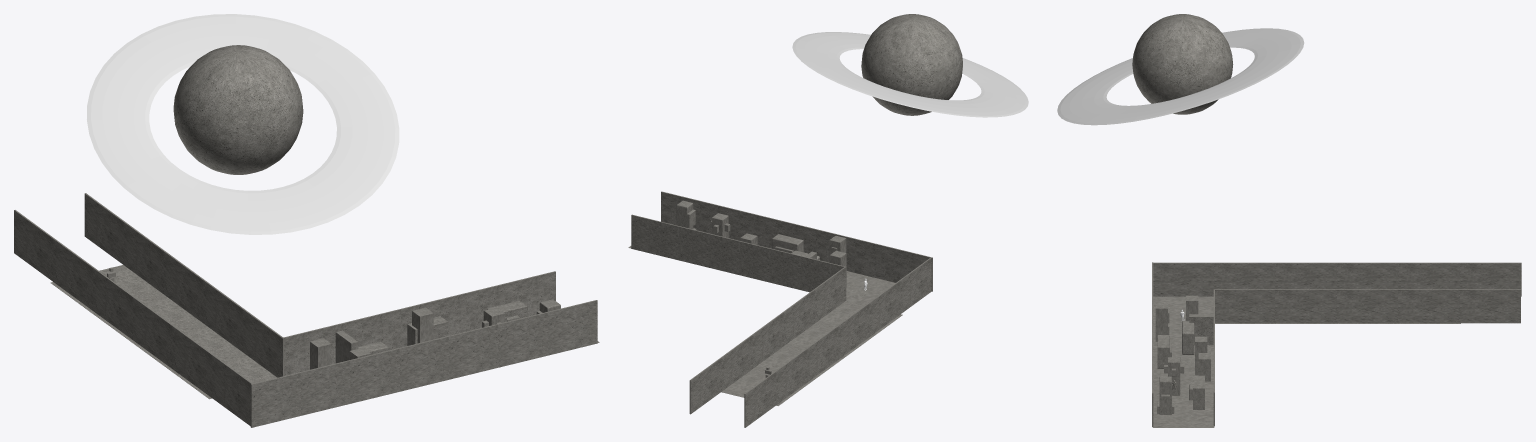
File: warning.glb
3 renders of one model, left to right at view 1: azimuth 30°, elevation 25°; view 2: azimuth 150°, elevation 25°; view 3: azimuth 270°, elevation 25°, orthographic. The views are drawn at different scales.
Parts seen in each view (by area): view 1: Torus, palazzo_1.002, Sphere, palazzo_2.010, palazzo_2.004, palazzo_1.001, pavimento.001, palazzo_1.004, palazzo_1, palazzo_2.008; view 2: Sphere, palazzo_1.001, palazzo_2.010, Torus, palazzo_1.002, palazzo_2.004, pavimento.001, pavimento, palazzo_2.003; view 3: palazzo_2.010, palazzo_2.004, Torus, Sphere, pavimento, palazzo_2.008, palazzo_1.003, palazzo_1.011.
Part boxes in pixels (left/top/right/bottom): Torus: left=87, top=14, right=399, bottom=234; palazzo_1.002: left=250, top=300, right=597, bottom=427; Sphere: left=173, top=45, right=303, bottom=174; palazzo_2.010: left=14, top=210, right=252, bottom=425; palazzo_2.004: left=84, top=193, right=284, bottom=377; palazzo_1.001: left=283, top=271, right=555, bottom=375; pavimento.001: left=50, top=265, right=277, bottom=399; palazzo_1.004: left=412, top=307, right=433, bottom=343; palazzo_1: left=310, top=338, right=331, bottom=369; palazzo_2.008: left=335, top=330, right=358, bottom=363; Sphere: left=861, top=14, right=962, bottom=115; palazzo_1.001: left=631, top=214, right=844, bottom=292; palazzo_2.010: left=744, top=257, right=931, bottom=427; Torus: left=792, top=32, right=1028, bottom=117; palazzo_1.002: left=661, top=191, right=932, bottom=291; palazzo_2.004: left=689, top=266, right=846, bottom=414; pavimento.001: left=721, top=301, right=902, bottom=405; pavimento: left=628, top=246, right=895, bottom=305; palazzo_2.003: left=772, top=234, right=803, bottom=252; palazzo_2.010: left=1153, top=262, right=1521, bottom=296; palazzo_2.004: left=1213, top=289, right=1520, bottom=323; Torus: left=1057, top=28, right=1304, bottom=125; Sphere: left=1132, top=14, right=1233, bottom=114; pavimento: left=1152, top=296, right=1214, bottom=427; palazzo_2.008: left=1189, top=314, right=1213, bottom=345; palazzo_1.003: left=1159, top=376, right=1171, bottom=414; palazzo_1.011: left=1155, top=303, right=1167, bottom=341.
Size of the model in its own units: 684 by 503 by 755.
3 materials, 2 textured.
